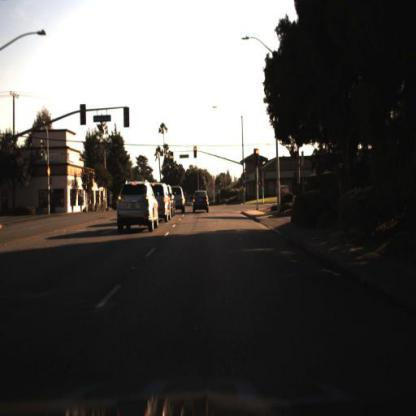car: (116, 181, 160, 235), (151, 181, 172, 223), (190, 189, 211, 218), (173, 185, 188, 214)
trafficLight: (169, 151, 177, 169)
trafficLight-Red: (251, 144, 261, 169), (253, 149, 261, 167), (192, 146, 199, 162)
